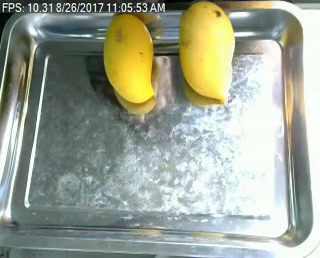Mango: (176, 3, 241, 104), (102, 7, 161, 107)
